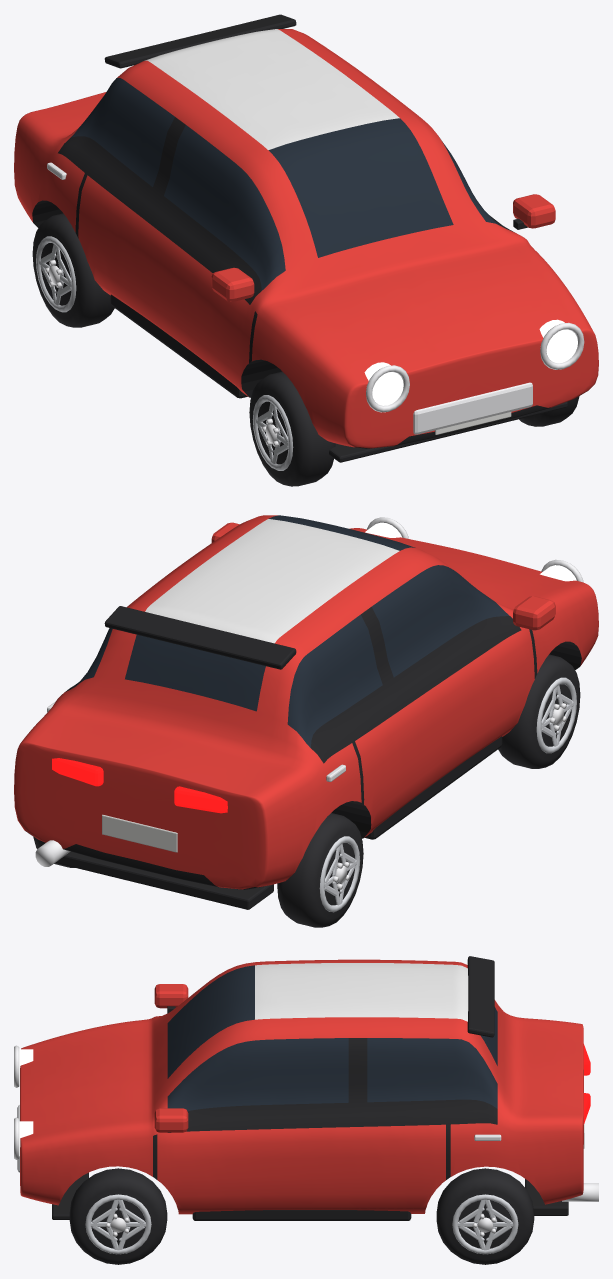
The model's file is pixie_mid.glb.
The picture shows the model from 3 angles, top to bottom: view 1: azimuth 30°, elevation 25°; view 2: azimuth 150°, elevation 25°; view 3: azimuth 270°, elevation 25°; orthographic projection. The views are drawn at different scales.
Visible parts, largest first — view 1: body, wheel_fr, wheel_rr, wheel_fl; view 2: body, wheel_rr, wheel_fr; view 3: body, wheel_rl, wheel_fl.
Part boxes in pixels (<box>): body: <box>14,14,598,462</box>; wheel_fr: <box>249,371,335,486</box>; wheel_rr: <box>32,213,114,327</box>; wheel_fl: <box>519,396,579,426</box>; body: <box>14,515,598,909</box>; wheel_rr: <box>277,813,363,927</box>; wheel_fr: <box>498,654,580,768</box>; body: <box>14,956,598,1220</box>; wheel_rl: <box>436,1168,534,1264</box>; wheel_fl: <box>69,1168,167,1264</box>.
Size of the model in its own units: 1.91 by 1.46 by 3.48.
